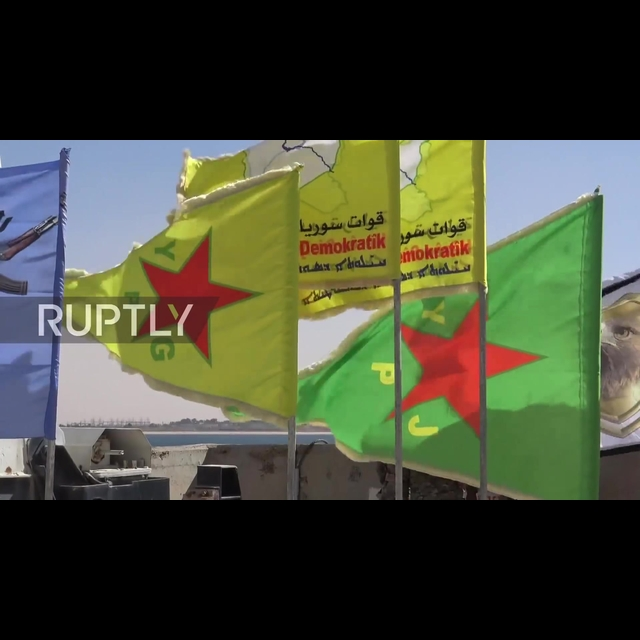YPJ: (359, 309, 555, 440)
